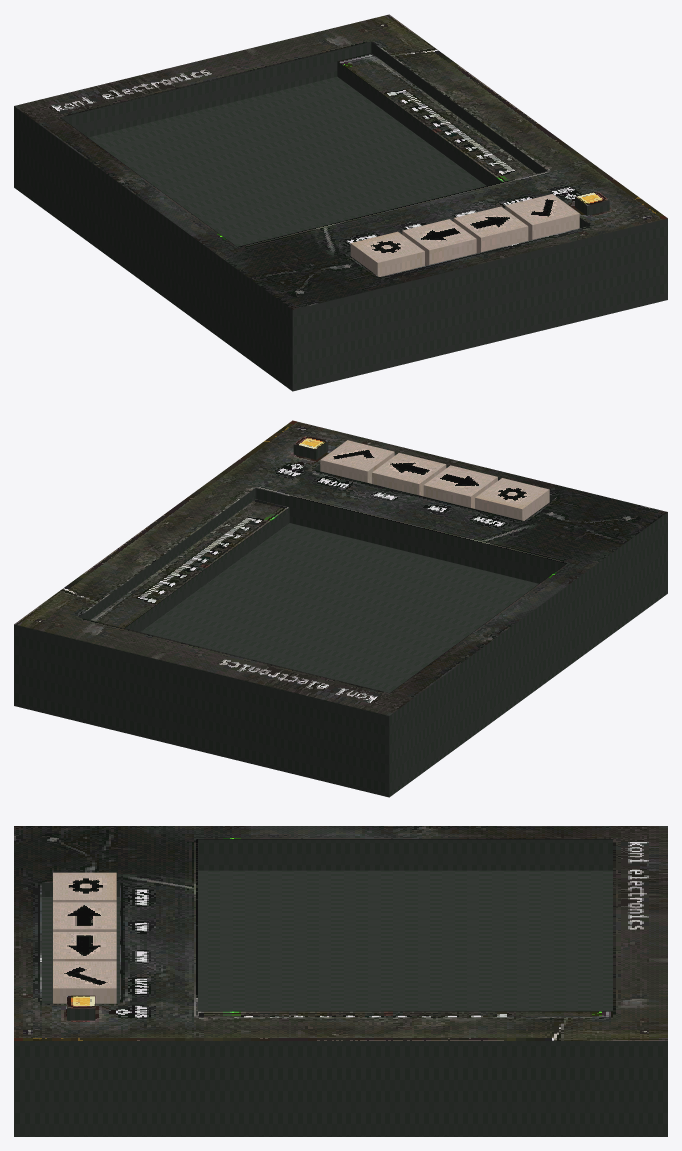
The model's file is mp_jammer proportions test1.glb.
3 renders of one model, top to bottom at view 1: azimuth 30°, elevation 25°; view 2: azimuth 150°, elevation 25°; view 3: azimuth 270°, elevation 25°, orthographic. The views are drawn at different scales.
Parts seen in each view (by area): view 1: jammer1, Cube_011, Cube_015, Cube_014, Cube_016; view 2: jammer1, Cube_011, Cube_015, Cube_016, Cube_014; view 3: jammer1, Cube_016, Cube_011, Cube_014, Cube_015.
Boxes of the visible parts, x1,y1,x2,y2 form: jammer1: [14, 14, 667, 391]; Cube_011: [350, 231, 424, 276]; Cube_015: [453, 206, 528, 253]; Cube_014: [402, 219, 476, 265]; Cube_016: [505, 194, 579, 240]; jammer1: [14, 420, 667, 797]; Cube_011: [475, 478, 549, 520]; Cube_015: [372, 453, 446, 496]; Cube_016: [320, 440, 394, 483]; Cube_014: [423, 465, 497, 508]; jammer1: [14, 826, 667, 1136]; Cube_016: [53, 961, 116, 1003]; Cube_011: [53, 872, 116, 902]; Cube_014: [53, 902, 116, 931]; Cube_015: [53, 932, 116, 961].
Bounding box in the file's own units: 1.45 × 0.3405 × 1.87.
1 material, 1 textured.
